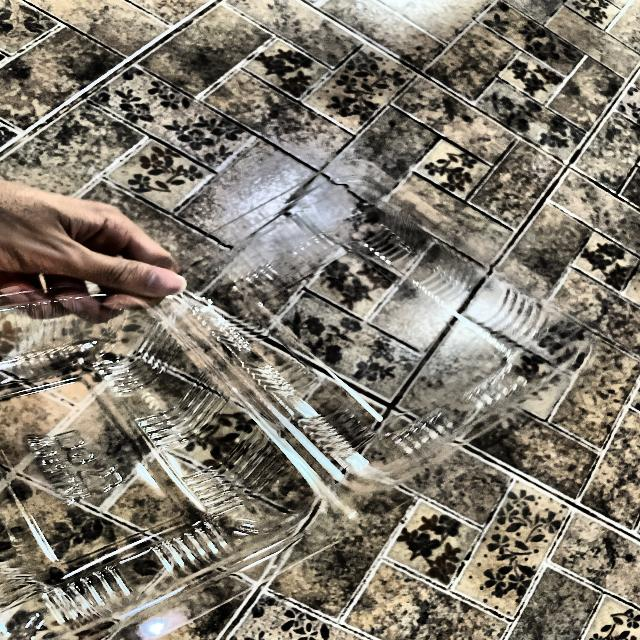plastic container: (22, 179, 508, 606)
